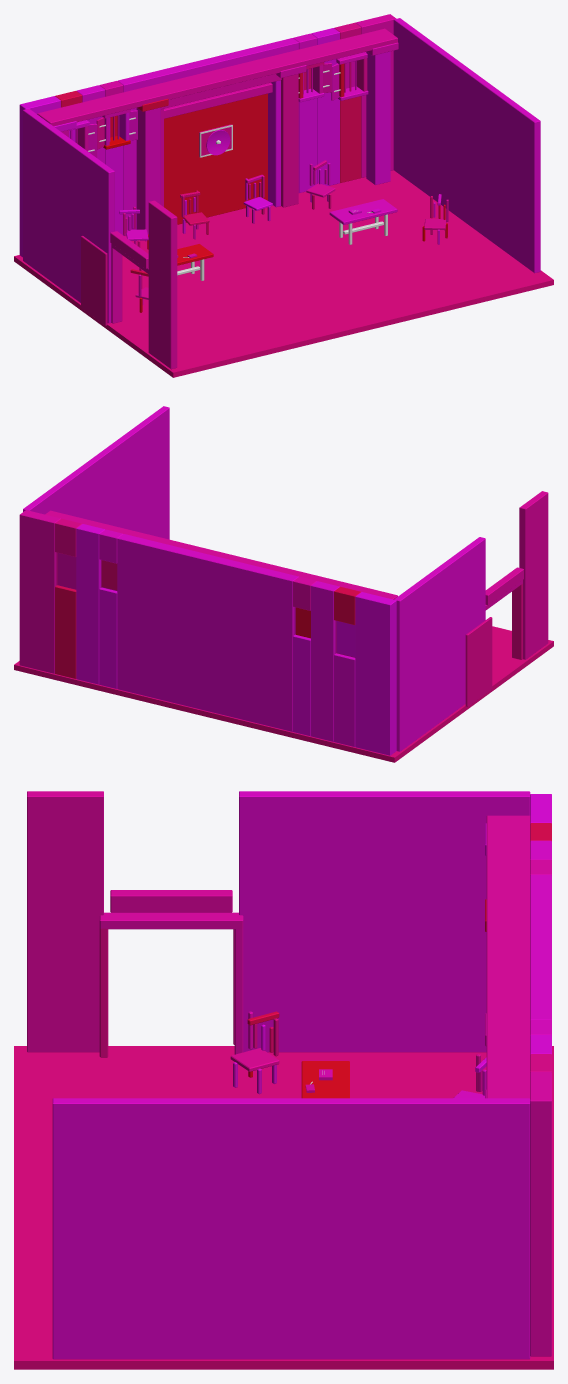
Rendered from court_chapter_03.glb.
3 views of the same model, one above another, from view 1: azimuth 30°, elevation 25°; view 2: azimuth 150°, elevation 25°; view 3: azimuth 270°, elevation 25° (orthographic). The views are drawn at different scales.
Parts seen in each view (by area): view 1: Floor, WallRight, WallLeftRear, RecessBack, AudienceEntablature, WallLeftFront, WallBackPier_2, AudiencePier_3, AudiencePier_1, AudiencePier_2, WallBackPier_3, OpenDoorLeaf (+22 smaller); view 2: WallBackPier_2, WallLeftRear, WallRight, WallBackPier_0, WallBackPier_end, Floor, WallLeftFront, WallBackPier_3, WallBackPier_1, AudienceEntablature, OpenDoorLeaf, WallBackLow_0 (+13 smaller); view 3: WallRight, WallLeftRear, Floor, WallLeftFront, AudienceEntablature, WallBackPier_end, WallBackPier_2, DoorLintel, EntranceHeader, Chair_officials_2, Desk_0, EntranceJamb_2.8 (+1 smaller).
Boxes of the visible parts, x1,y1,x2,y2 form: Floor: [14, 170, 553, 377]; WallRight: [393, 18, 540, 273]; WallLeftRear: [23, 108, 114, 323]; RecessBack: [164, 93, 267, 224]; AudienceEntablature: [37, 28, 397, 126]; WallLeftFront: [148, 200, 177, 369]; WallBackPier_2: [118, 38, 298, 235]; AudiencePier_3: [366, 51, 390, 184]; AudiencePier_1: [136, 107, 160, 241]; AudiencePier_2: [281, 74, 298, 207]; WallBackPier_3: [311, 28, 339, 185]; OpenDoorLeaf: [81, 236, 107, 325]; WallBackPier_2: [117, 534, 298, 731]; WallLeftRear: [394, 537, 485, 751]; WallRight: [23, 406, 169, 539]; WallBackPier_0: [355, 592, 396, 755]; WallBackPier_end: [19, 510, 60, 673]; Floor: [14, 626, 553, 762]; WallLeftFront: [519, 491, 548, 659]; WallBackPier_3: [76, 524, 104, 684]; WallBackPier_1: [311, 581, 339, 741]; AudienceEntablature: [45, 510, 397, 599]; OpenDoorLeaf: [465, 617, 492, 706]; WallBackLow_0: [334, 653, 355, 746]; WallRight: [52, 1098, 530, 1359]; WallLeftRear: [239, 791, 530, 1052]; Floor: [14, 1046, 553, 1369]; WallLeftFront: [27, 791, 103, 1052]; AudienceEntablature: [486, 815, 530, 1098]; WallBackPier_end: [530, 1071, 551, 1356]; WallBackPier_2: [530, 874, 551, 1020]; DoorLintel: [110, 890, 232, 912]; EntranceHeader: [99, 912, 243, 929]; Chair_officials_2: [230, 1011, 279, 1094]; Desk_0: [301, 1061, 349, 1098]; EntranceJamb_2.8: [99, 928, 108, 1057].
Size of the model in its own units: 11.7 by 4.55 by 8.4.
